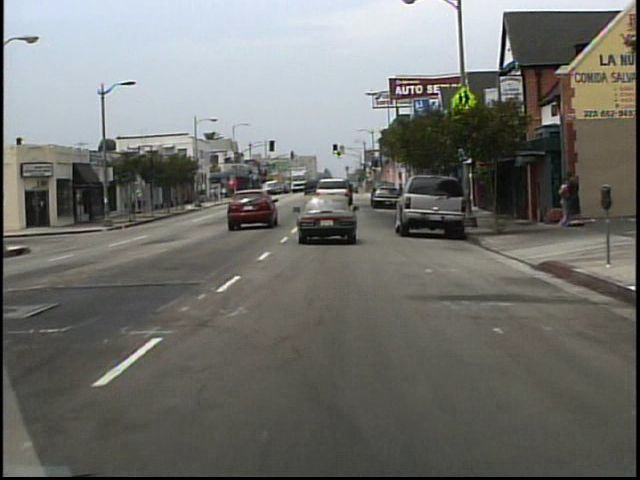person: (564, 169, 580, 225), (558, 177, 574, 228), (136, 187, 147, 214)
